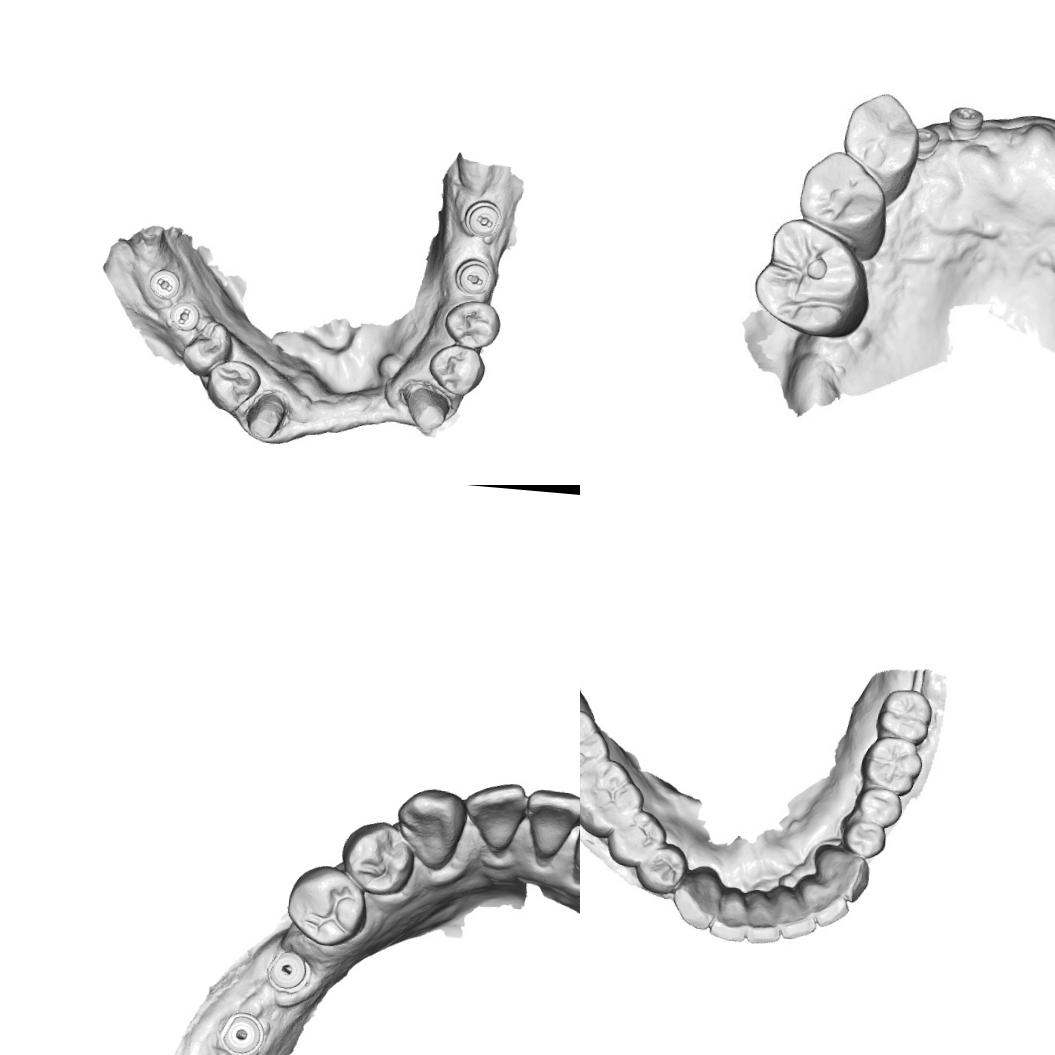canine: (392, 782, 470, 874), (668, 863, 725, 932), (810, 842, 872, 904)
crown: (239, 387, 289, 446), (400, 382, 450, 439)
implant: (262, 944, 309, 995), (217, 1009, 269, 1055)
implant_minus: (448, 254, 495, 300), (460, 196, 506, 240), (145, 266, 182, 302), (904, 121, 939, 159), (166, 298, 201, 333)
implant_plus: (946, 100, 985, 144)
incisor: (458, 778, 528, 855), (522, 786, 580, 863), (797, 876, 852, 930), (770, 884, 820, 941), (706, 882, 752, 942), (740, 886, 785, 945)
molar: (746, 213, 873, 346), (580, 755, 647, 842), (857, 732, 926, 797), (872, 686, 934, 746), (580, 705, 614, 792)
premolar: (798, 150, 888, 239), (285, 859, 370, 950), (840, 91, 924, 178), (337, 816, 416, 898), (603, 806, 669, 872), (438, 296, 504, 352), (424, 340, 487, 398), (179, 316, 236, 380), (632, 838, 692, 898), (202, 356, 262, 414), (852, 784, 904, 829), (837, 817, 888, 861)
